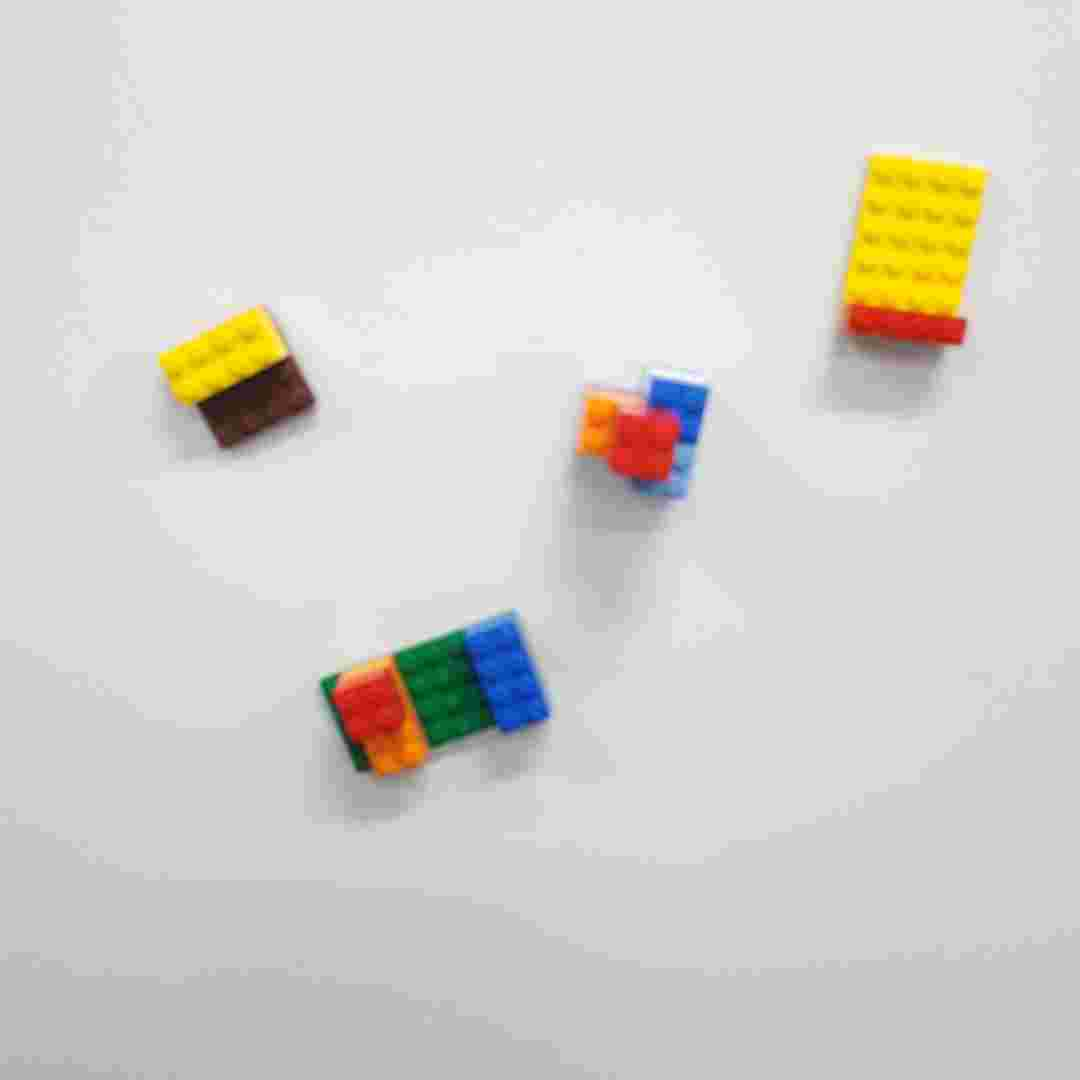LEGO: (313, 605, 557, 779), (835, 150, 994, 359), (153, 301, 320, 453), (572, 364, 708, 505)
